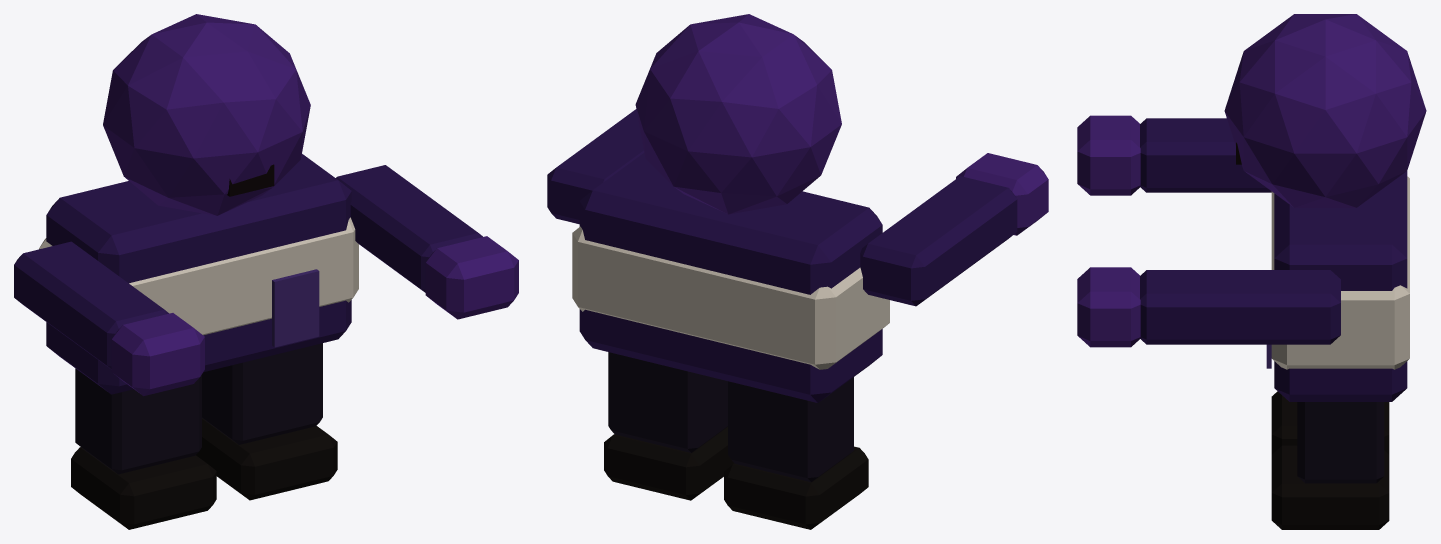
Rendered from brute.glb.
3 views of the same model, side by side, from view 1: azimuth 30°, elevation 25°; view 2: azimuth 150°, elevation 25°; view 3: azimuth 270°, elevation 25° (orthographic).
Visible parts, largest first — view 1: brute; view 2: brute; view 3: brute.
Boxes of the visible parts, x1,y1,x2,y2 form: brute: [14, 14, 518, 529]; brute: [547, 14, 1048, 529]; brute: [1077, 14, 1426, 529].
Size of the model in its own units: 2.25 by 2.59 by 1.77.
